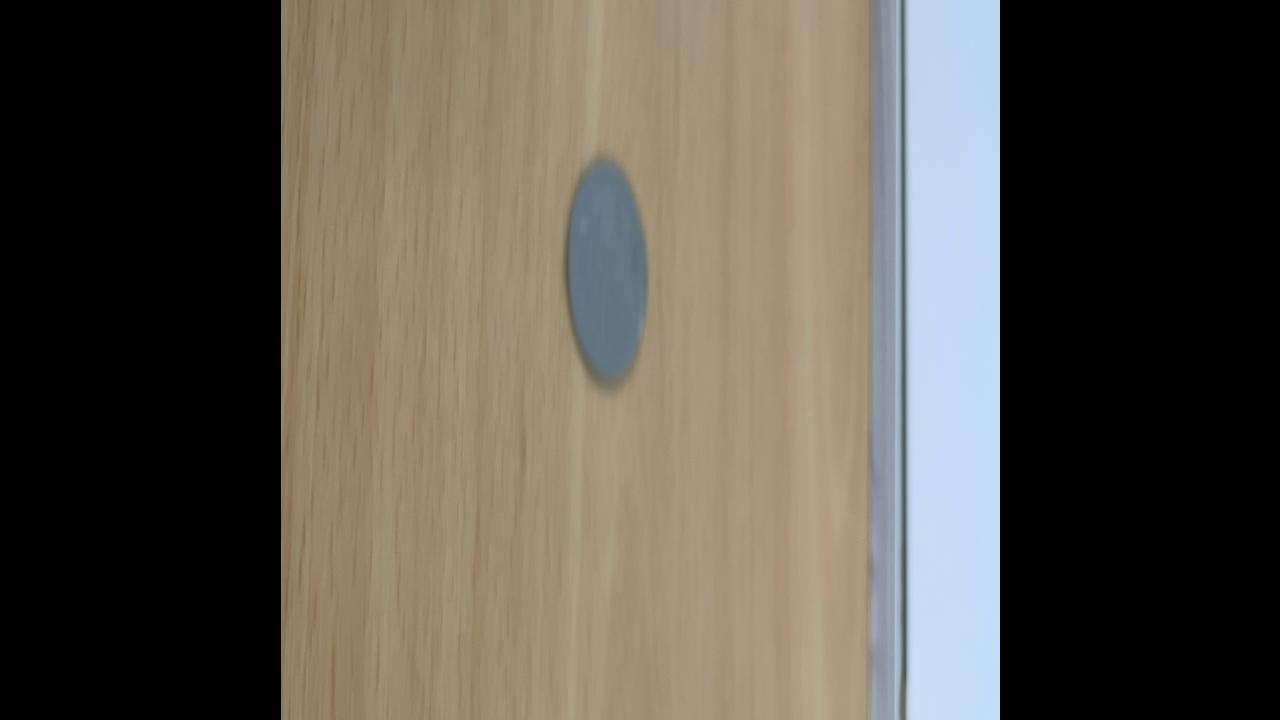coin: (562, 152, 648, 390)
